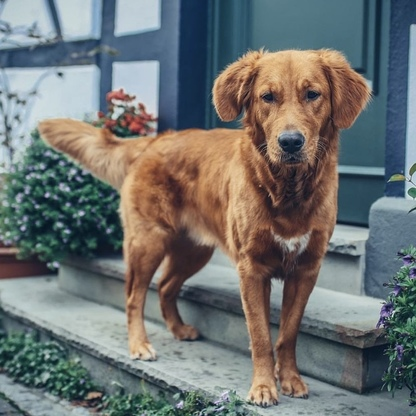labrado: (34, 41, 376, 407)
